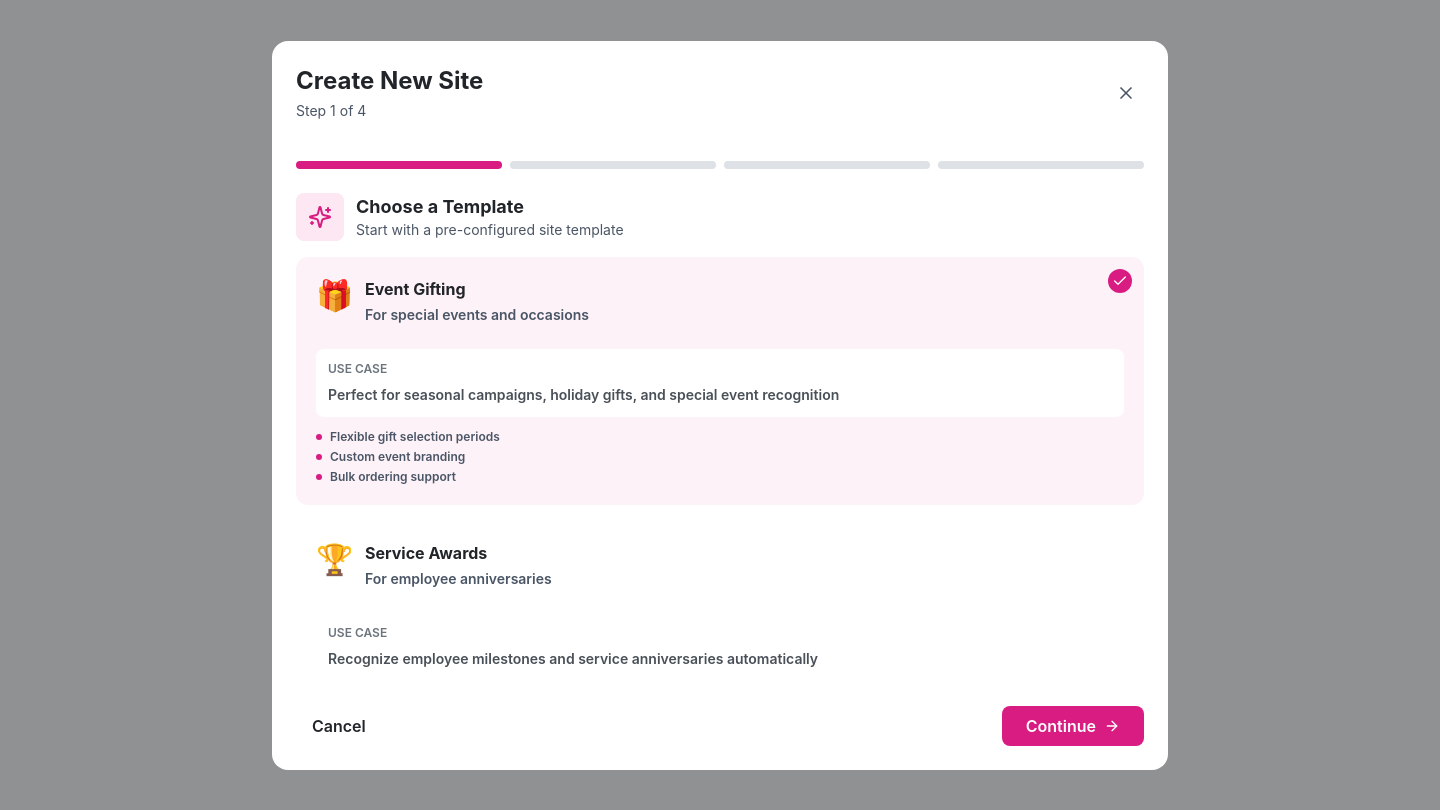
Test case: CreateSiteModal Component › Rendering › should render form fields
Expected: the heading "Event Gifting" is shown, [365,278,466,298]
// Click "Continue" to go to step 1
Click the button "Continue". click: click(1073, 726)
box: [1002,706,1144,746]
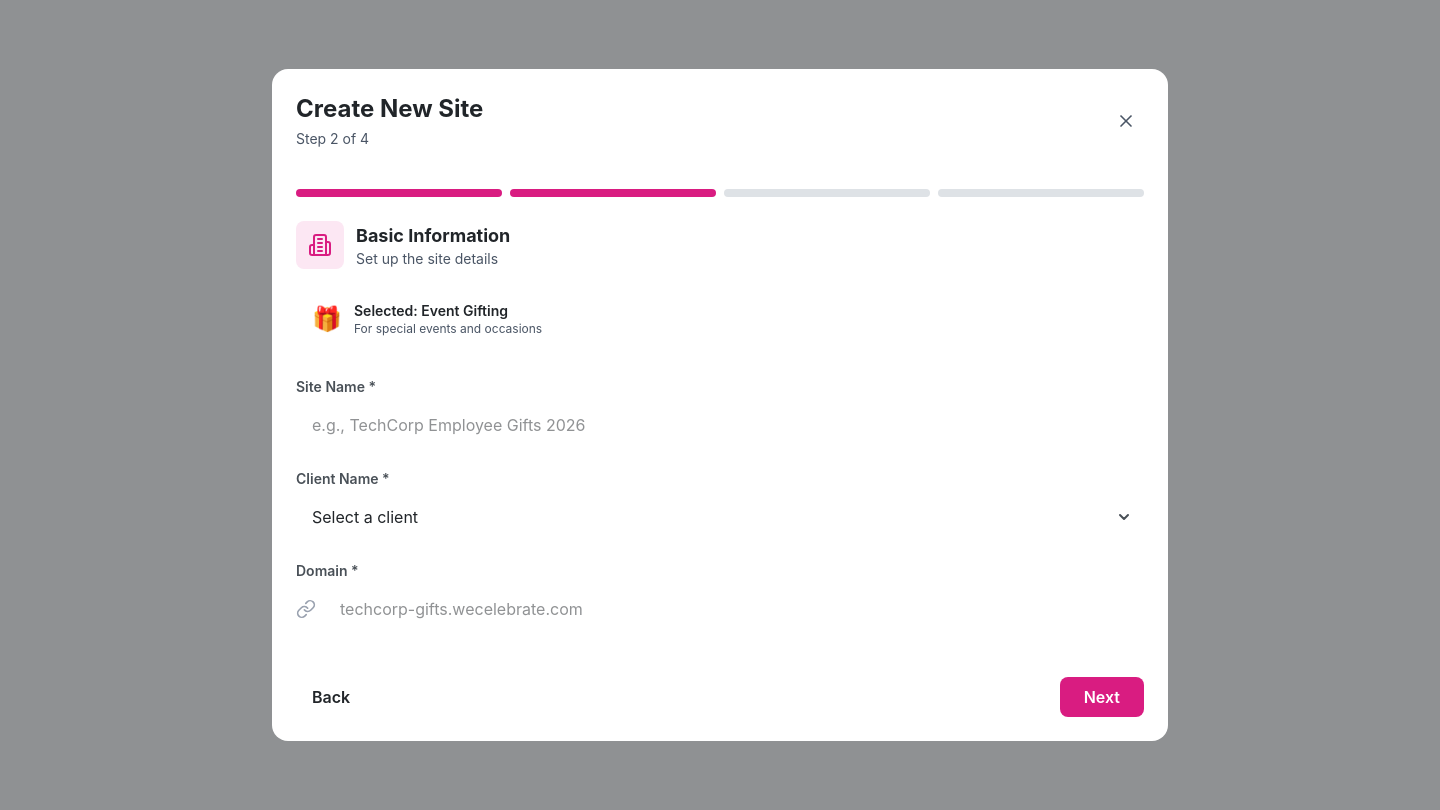
Expected: the field with placeholder "e.g., TechCorp Employee Gifts 2026" is shown, [296,405,1144,445]
